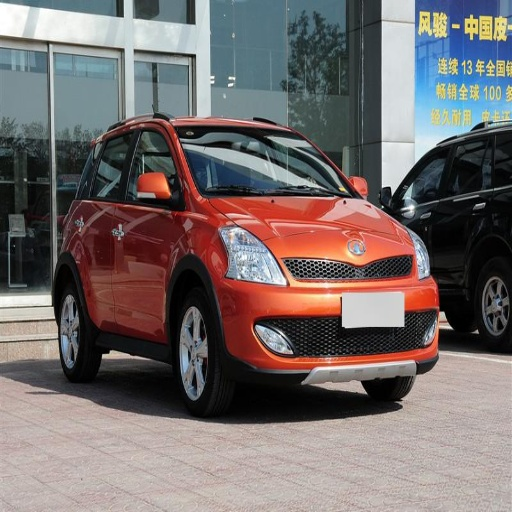front_bumper: (215, 254, 436, 388)
front_right_door: (118, 122, 184, 333)
front_right_light: (219, 225, 288, 286)
hood: (206, 199, 414, 265)
